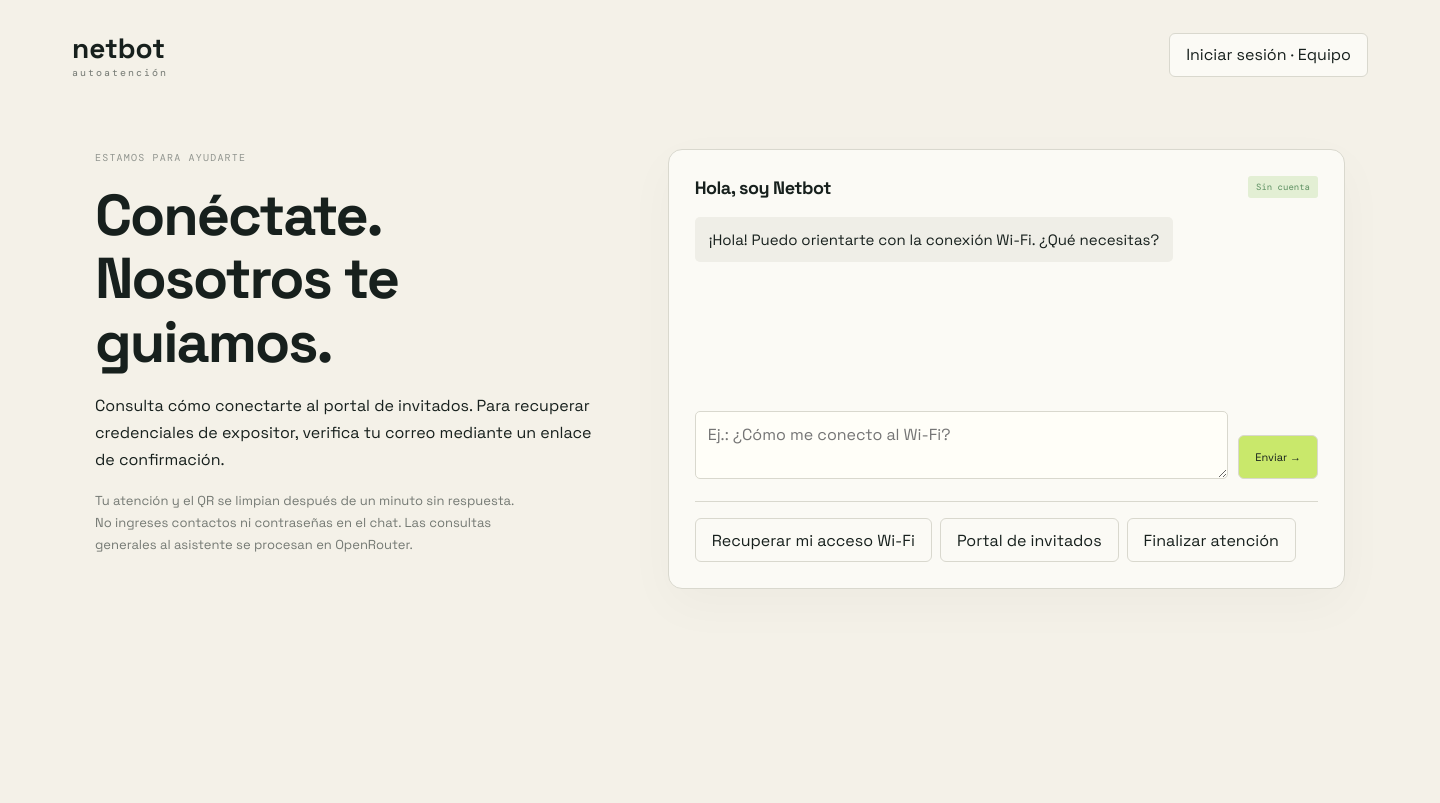
Test case: React application with the real feature controllers › renders Supervisor metrics and Tickets without management controls, including direct hashes
Click the button "Iniciar sesión · Equipo" at (1269, 54), box top-left (1169, 32), bottom-right (1368, 76)
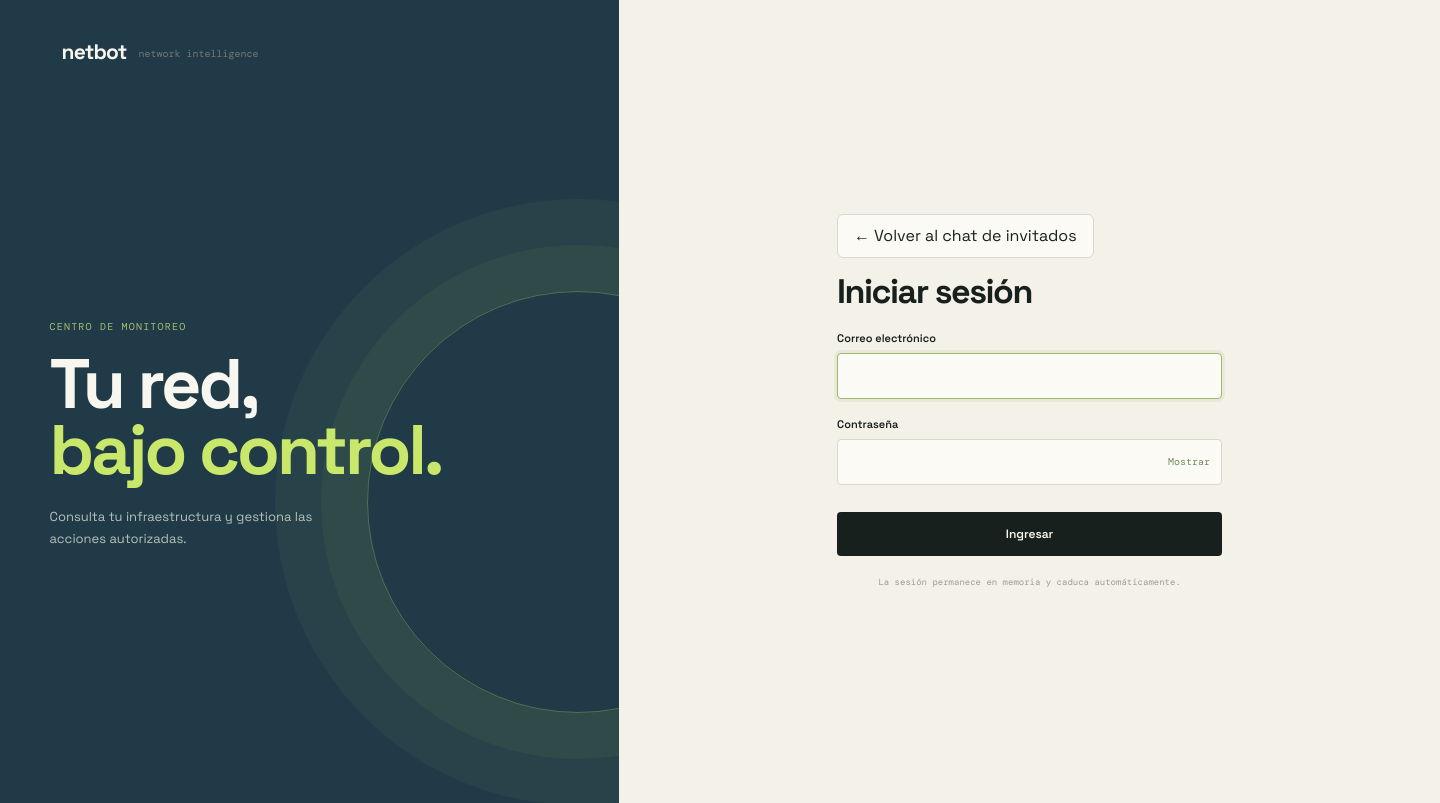
Type "supervisor@example.test" into the field labelled "Correo electrónico" at (1030, 376), box top-left (837, 352), bottom-right (1222, 398)
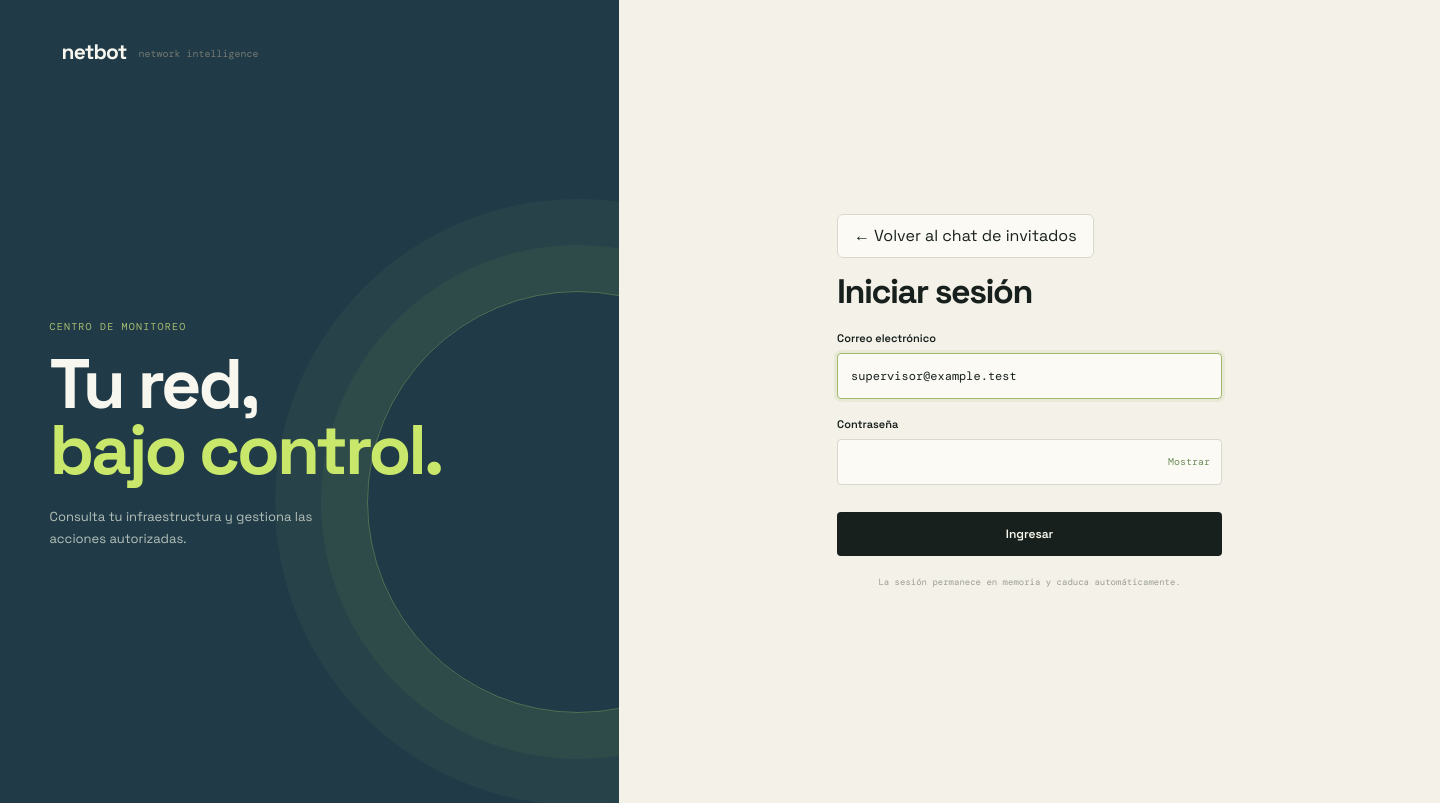
Type "synthetic-password" into the password field labelled "Contraseña" at (1030, 462), box top-left (837, 438), bottom-right (1222, 484)
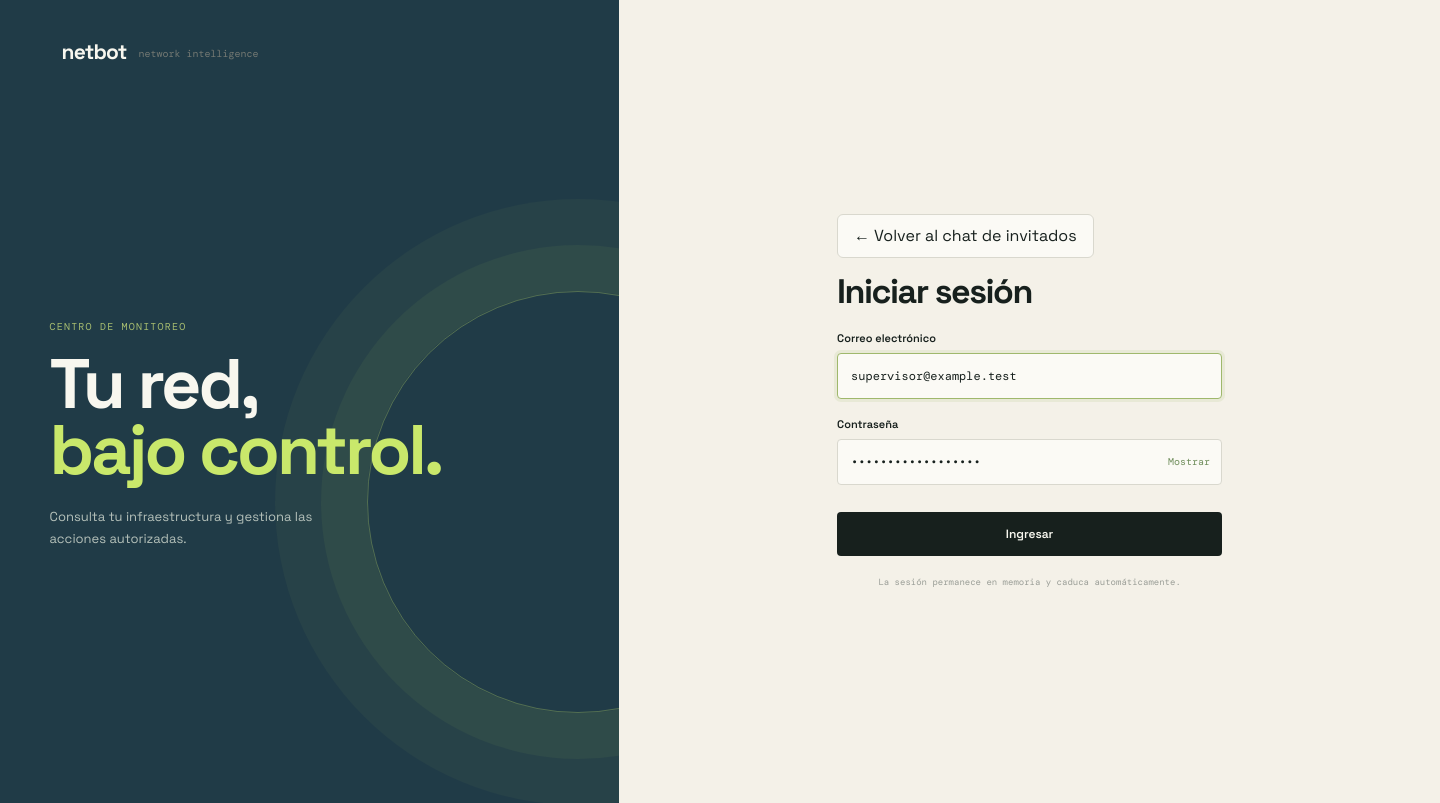
Click the button "Ingresar" at (1030, 534), box top-left (837, 512), bottom-right (1222, 556)
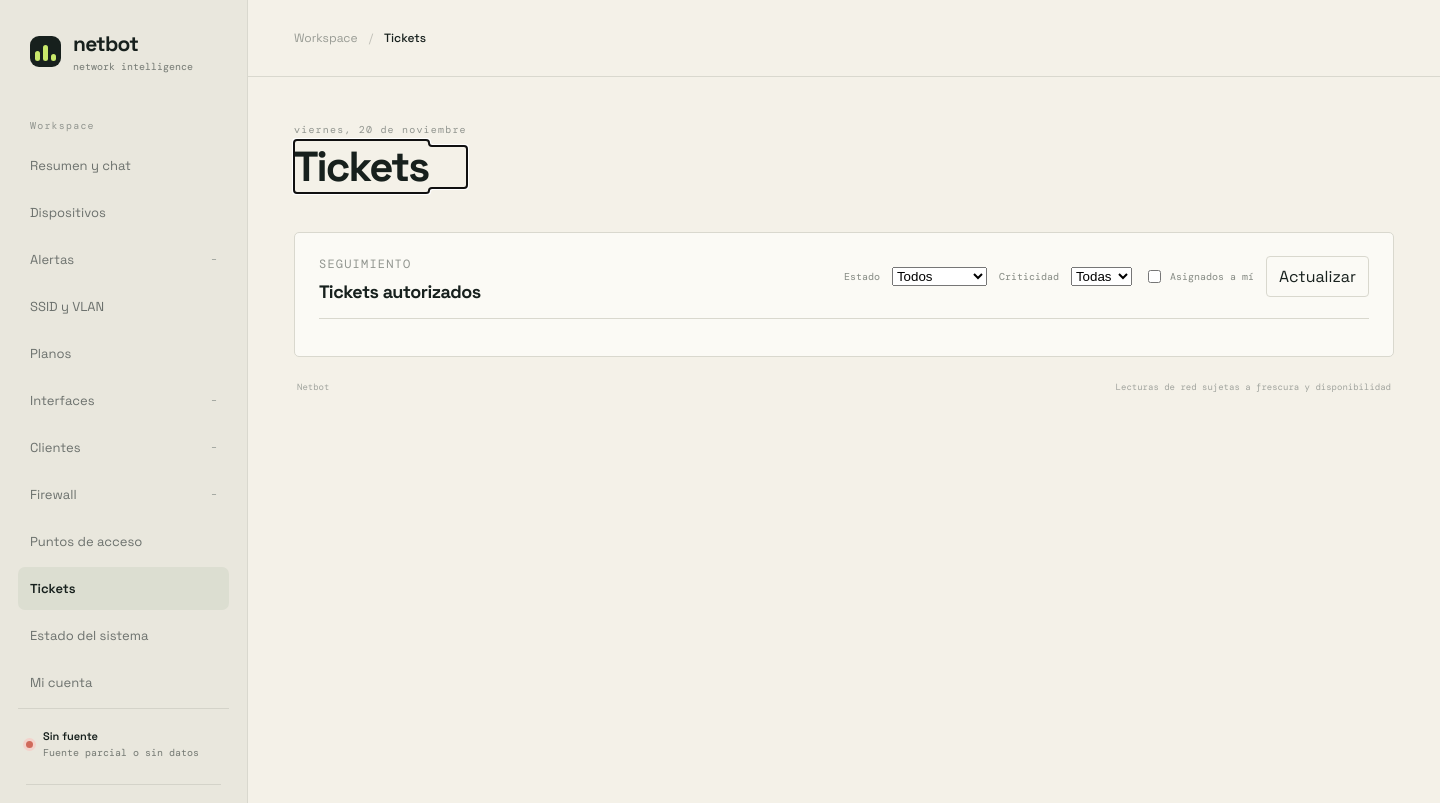
Expected: the heading "Tickets autorizados" is shown, top-left (319, 280), bottom-right (481, 303)
Click the link "Resumen y chat" at (80, 166), box top-left (30, 157), bottom-right (131, 174)
(page scrolled)
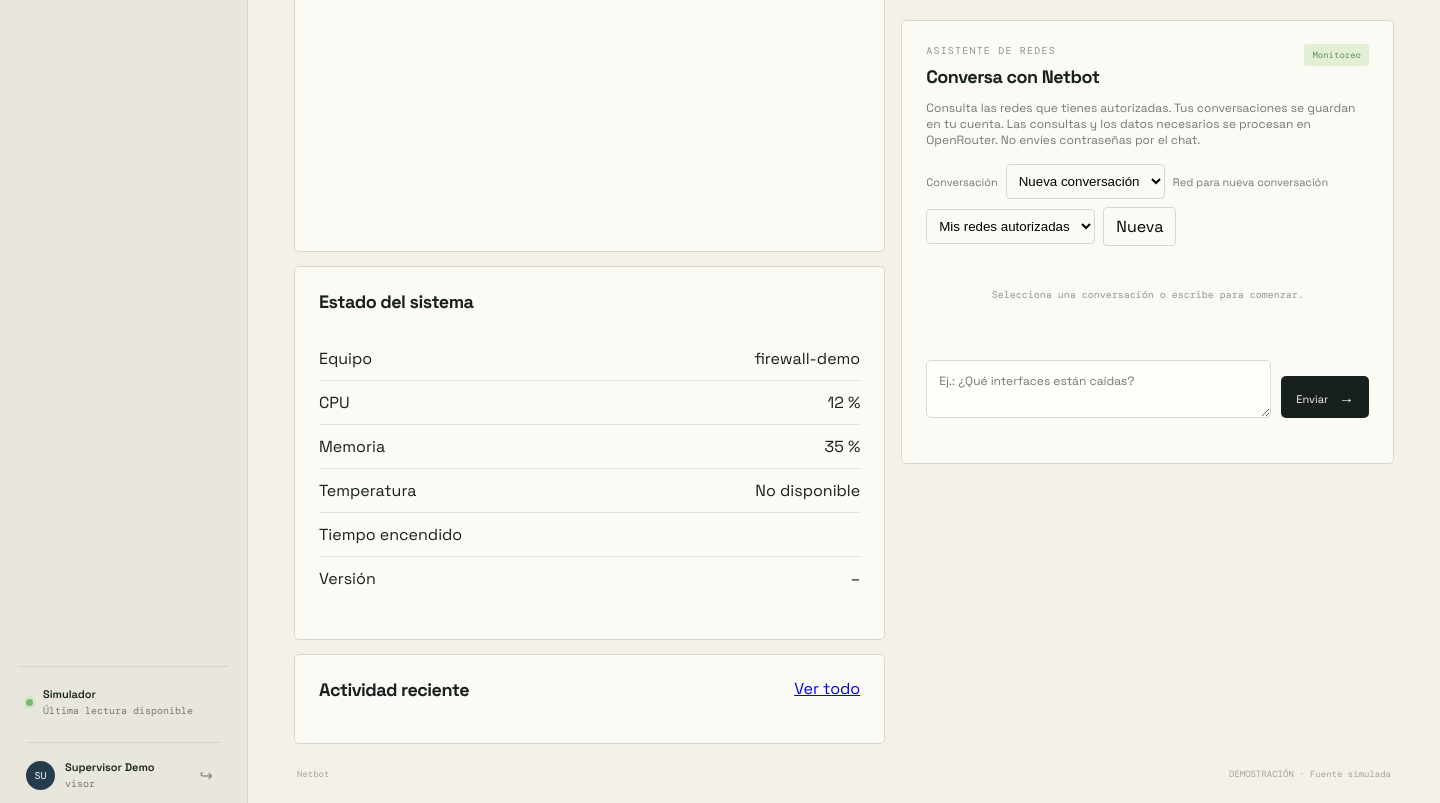
Expected: the text "firewall-demo" is shown, top-left (754, 348), bottom-right (860, 369)
Expected: the text "12 %" is shown, top-left (828, 392), bottom-right (860, 413)
Expected: the text "DEMOSTRACIÓN · Fuente simulada" is shown, top-left (1229, 768), bottom-right (1391, 780)
